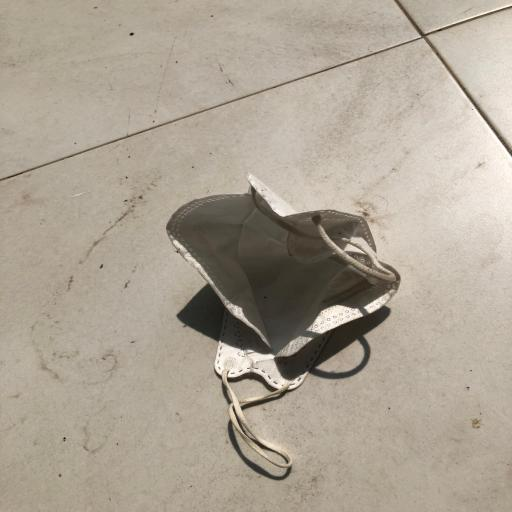waste: (139, 174, 423, 480)
